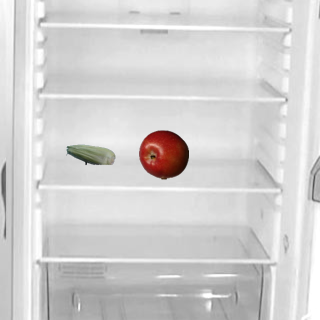Apple Braeburn: (138, 129, 188, 179)
Corn Husk: (65, 129, 115, 179)
